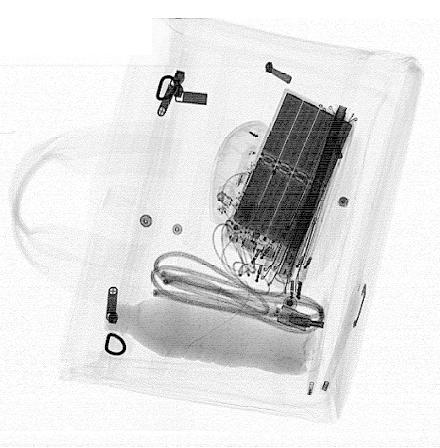Powerbank: (221, 87, 354, 273)
